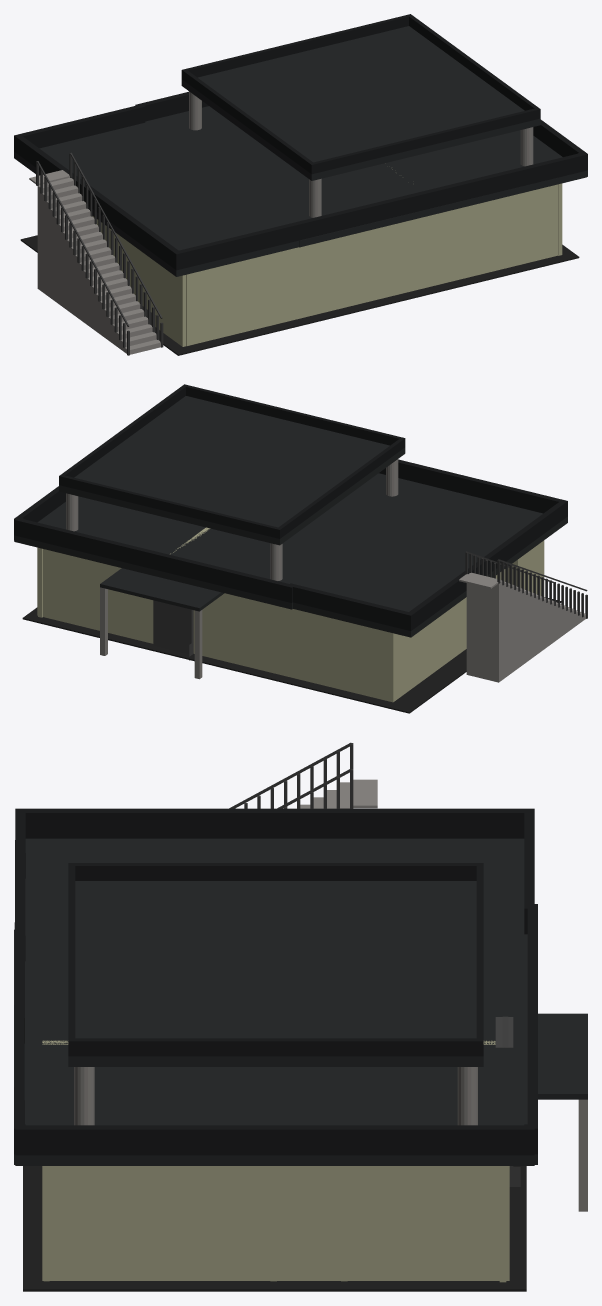
File: apartment.glb
3 views of the same model, one above another, from view 1: azimuth 30°, elevation 25°; view 2: azimuth 150°, elevation 25°; view 3: azimuth 270°, elevation 25° (orthographic). The views are drawn at different scales.
Parts seen in each view (by area): view 1: world; view 2: world; view 3: world.
Part boxes in pixels (bbox=[...]): world: bbox=[14, 14, 587, 355]; world: bbox=[14, 384, 587, 713]; world: bbox=[14, 742, 587, 1291].
Size of the model in its own units: 17.44 by 5.51 by 12.16.
1 material, 1 textured.
